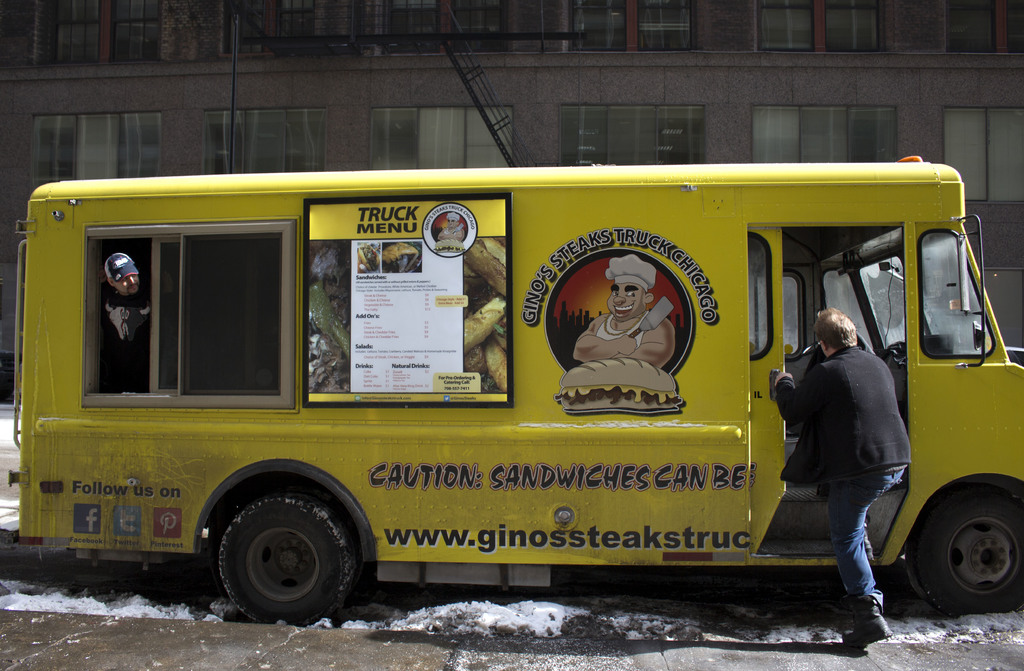Bus: (6, 154, 1023, 629)
